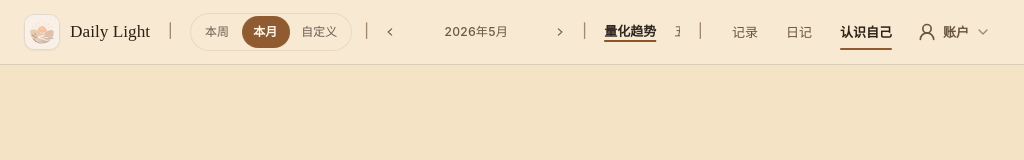
Test case: SiteHeader analysis toolbar › optimistically updates week range and shows week loading copy
Click the button "本周" at (217, 32), box [193, 16, 241, 48]
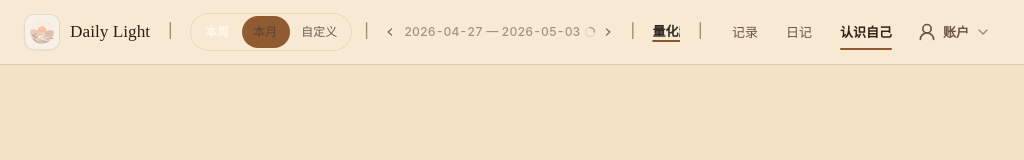
Check: the text with test id "analysis-period-display" reads "2026-04-27 — 2026-05-03", box [404, 24, 580, 39]
Check: the icon with test id "analysis-period-loading-indicator" is shown, box [584, 26, 596, 38]
Click the button named "查看上一周" at (390, 32), box [380, 22, 400, 42]
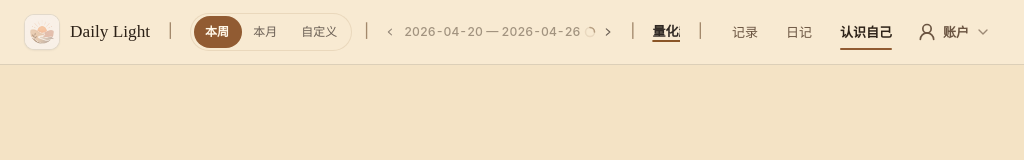
Check: the text with test id "analysis-period-display" reads "2026-04-20 — 2026-04-26", box [404, 24, 580, 39]
